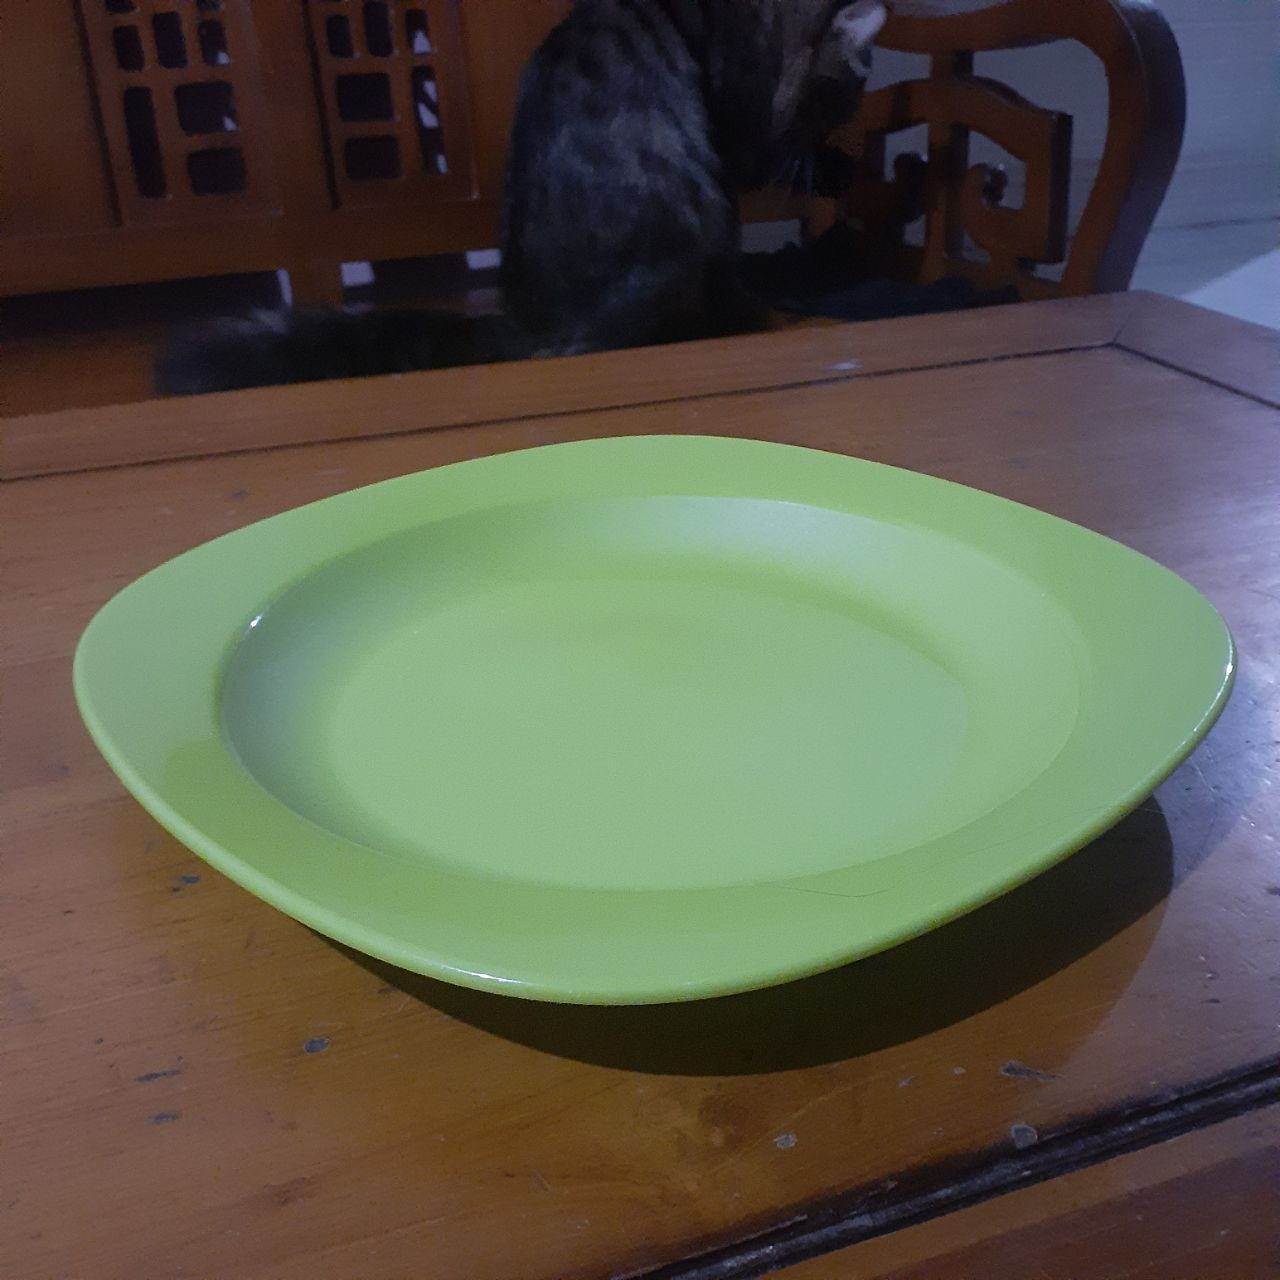piring: (57, 427, 1245, 1002)
